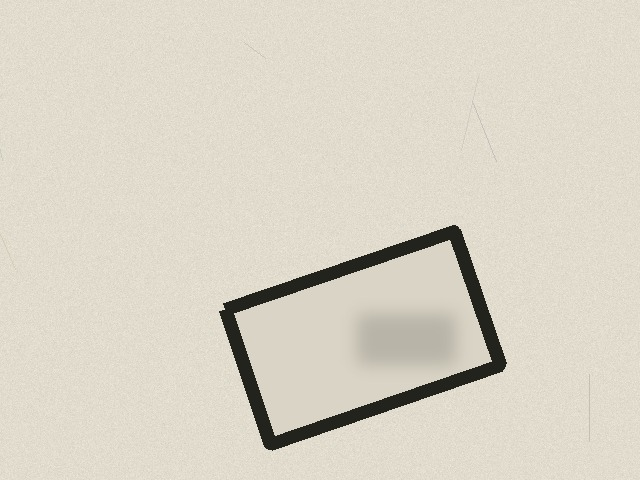parking_area: (225, 231, 500, 444)
